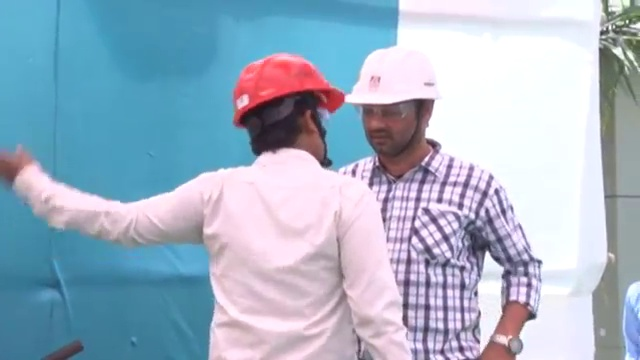helmet: (230, 49, 345, 126), (341, 42, 443, 106)
helmet_on: (228, 48, 345, 170), (341, 42, 444, 172)
person: (1, 46, 416, 360), (334, 42, 545, 360)
